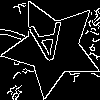A: (27, 22, 68, 72)
